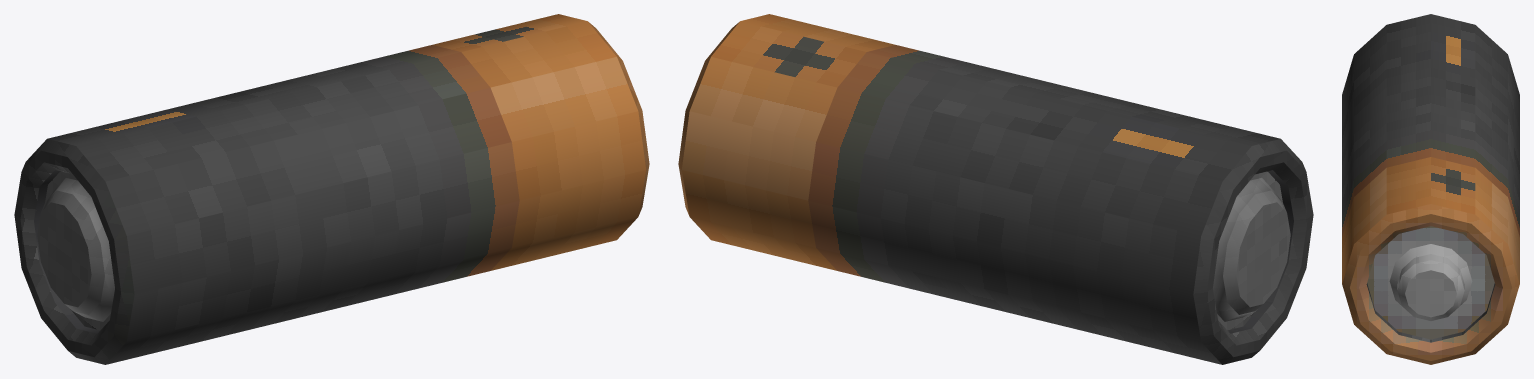
Rendered from battery_4.glb.
3 renders of one model, left to right at view 1: azimuth 30°, elevation 25°; view 2: azimuth 150°, elevation 25°; view 3: azimuth 270°, elevation 25°, orthographic. The views are drawn at different scales.
Visible parts, largest first — view 1: battery_4; view 2: battery_4; view 3: battery_4.
Part boxes in pixels (left/top/right/bottom): battery_4: left=14, top=14, right=649, bottom=364; battery_4: left=678, top=14, right=1313, bottom=364; battery_4: left=1342, top=14, right=1519, bottom=364.
Size of the model in its own units: 0.0976 by 0.036 by 0.036.
Materials: 1 (1 with a texture image).
